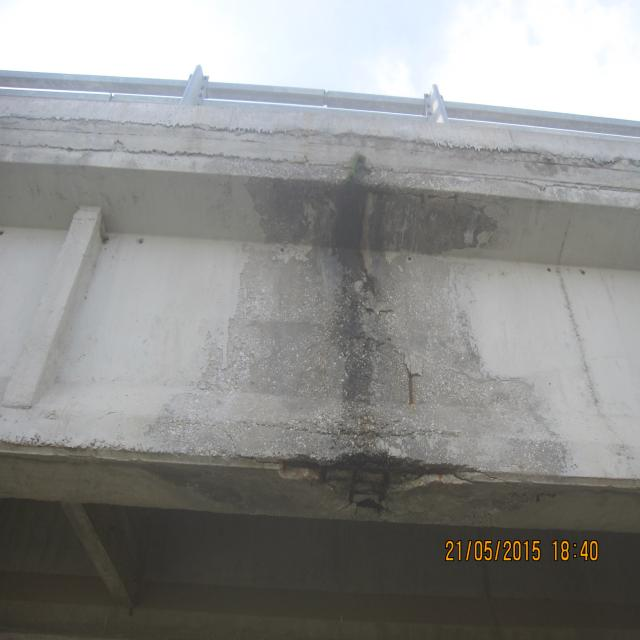corrosion: (281, 450, 464, 511), (400, 362, 422, 414)
